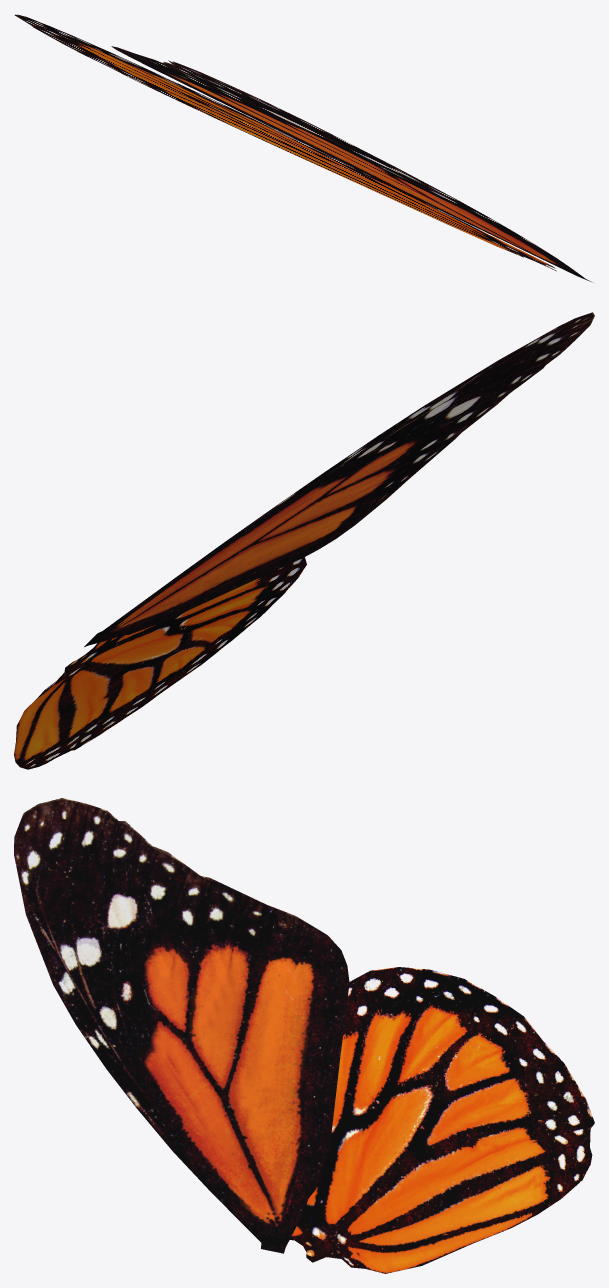
Rendered from wing-right.obj.
3 renders of one model, top to bottom at view 1: azimuth 30°, elevation 25°; view 2: azimuth 150°, elevation 25°; view 3: azimuth 270°, elevation 25°, orthographic. The views are drawn at different scales.
Visible parts, largest first — view 1: BUTT06, BUTT07; view 2: BUTT06, BUTT07; view 3: BUTT06, BUTT07.
Part boxes in pixels (x1,y1,x2,y2): BUTT06: [111, 46, 592, 282]; BUTT07: [14, 14, 556, 271]; BUTT06: [84, 312, 594, 646]; BUTT07: [14, 557, 306, 769]; BUTT06: [14, 798, 349, 1253]; BUTT07: [290, 967, 594, 1273].
Size of the model in its own units: 2435 by 2094 by 3571.
Materials: 2 (2 with a texture image).
